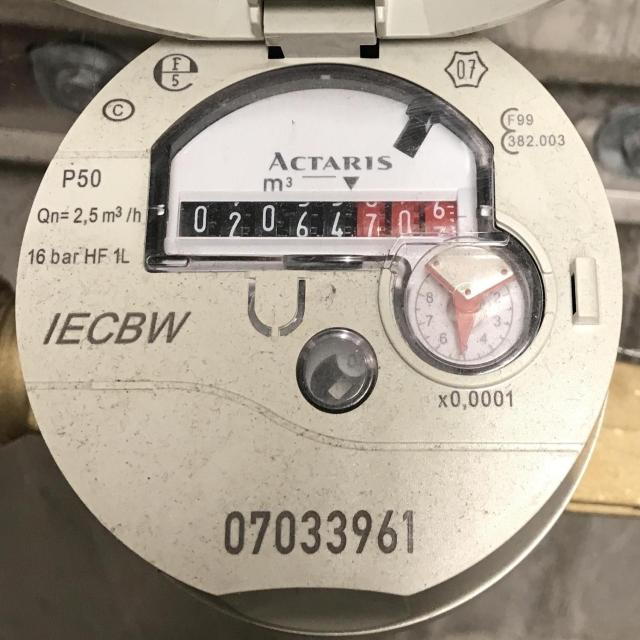gaz_meter: (15, 28, 626, 599)
indication: (179, 200, 458, 241)
